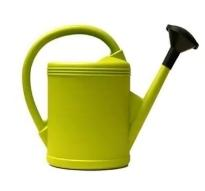ARROSOIR: (0, 16, 201, 191)
